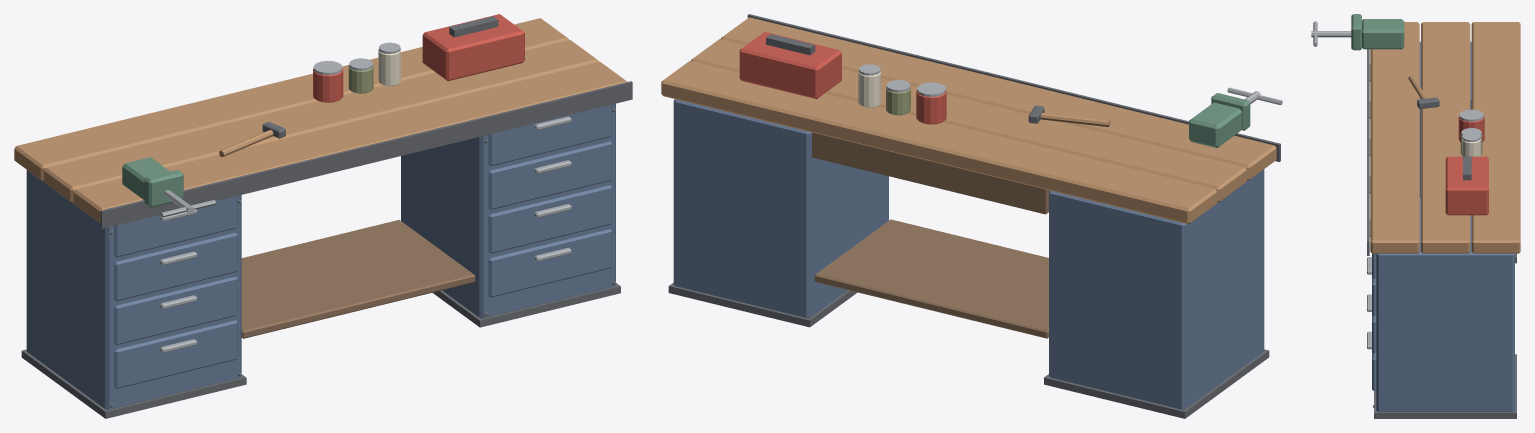
File: Garage_Workbench.glb
3 renders of one model, left to right at view 1: azimuth 30°, elevation 25°; view 2: azimuth 150°, elevation 25°; view 3: azimuth 270°, elevation 25°, orthographic. The views are drawn at different scales.
Visible parts, largest first — view 1: Garage_Workbench; view 2: Garage_Workbench; view 3: Garage_Workbench.
Boxes of the visible parts, left/top/right/bottom form: Garage_Workbench: left=14, top=14, right=632, bottom=418; Garage_Workbench: left=661, top=14, right=1282, bottom=418; Garage_Workbench: left=1311, top=14, right=1520, bottom=418.
Bounding box in the file's own units: 2.41 × 1.1 × 0.967.
